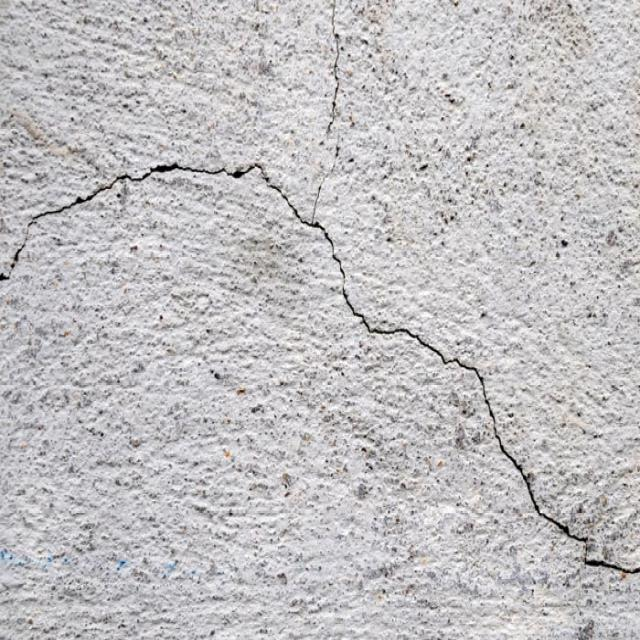Wall_Cracks: (1, 6, 640, 613)
